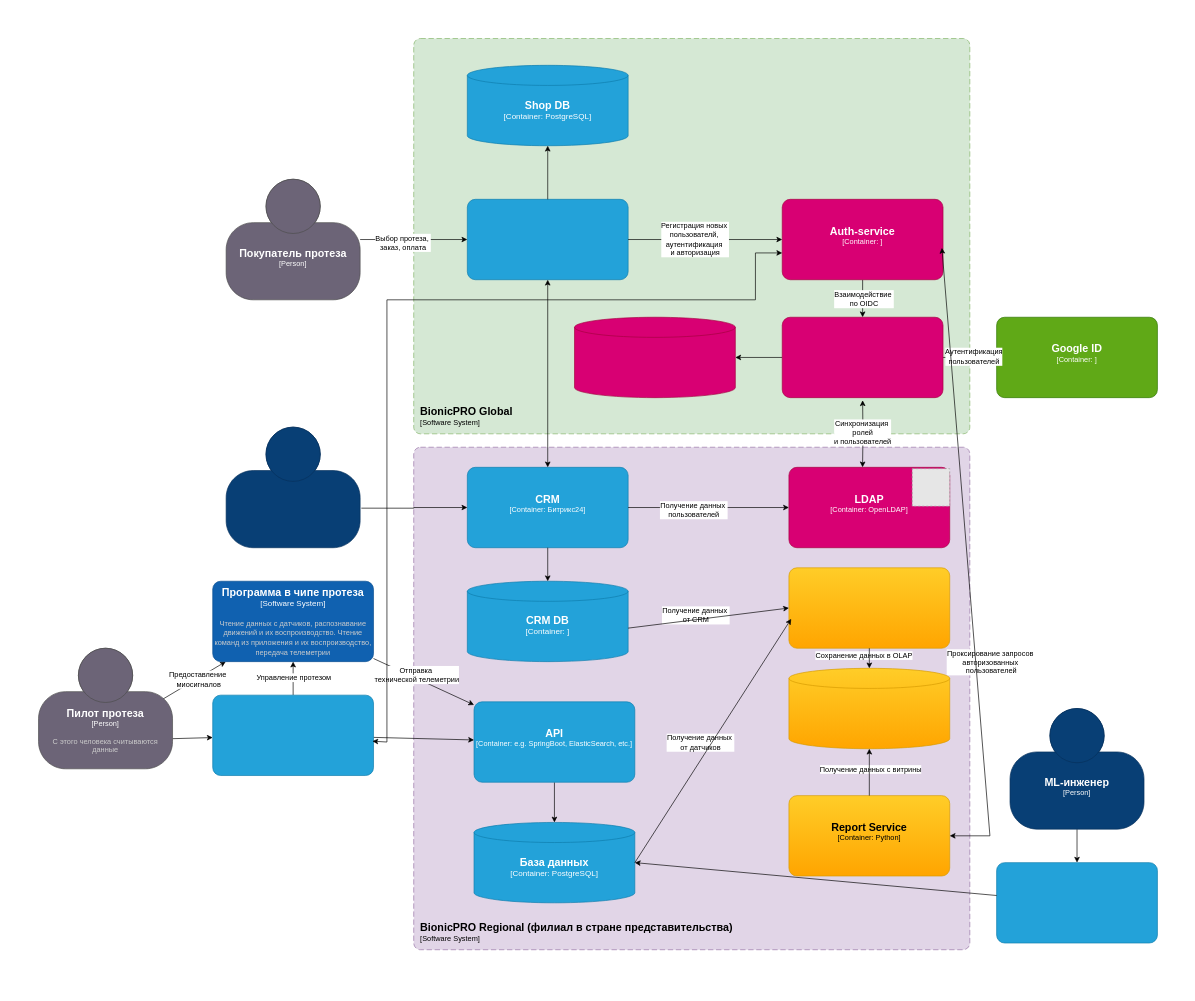
Image size: 1195x1001. Some labels were removed from this diagram. Grey dashed boxes stand in for pictures. The centre of each missing label's shape, as x and y in pixels:
cli tool [Container: e.g. SpringBoot, ElasticSearch, etc.]: [1076,902]
ETL [Container: Apache Airflow]: [869,607]
Keycloak [Container: ]: [862,357]
Keycloak DB [Container: PostgreSQL]: [654,357]
База данных OLAP [Container: ClickHouse]: [869,708]
Интернет-магазин [Container: Битрикс24]: [547,239]
Оператор производства [Person]: [292,487]
Приложение для донастройки протеза [Container: iOD, Android]: [293,735]
